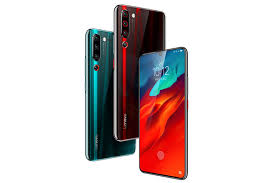lenovo: (137, 44, 191, 182)
